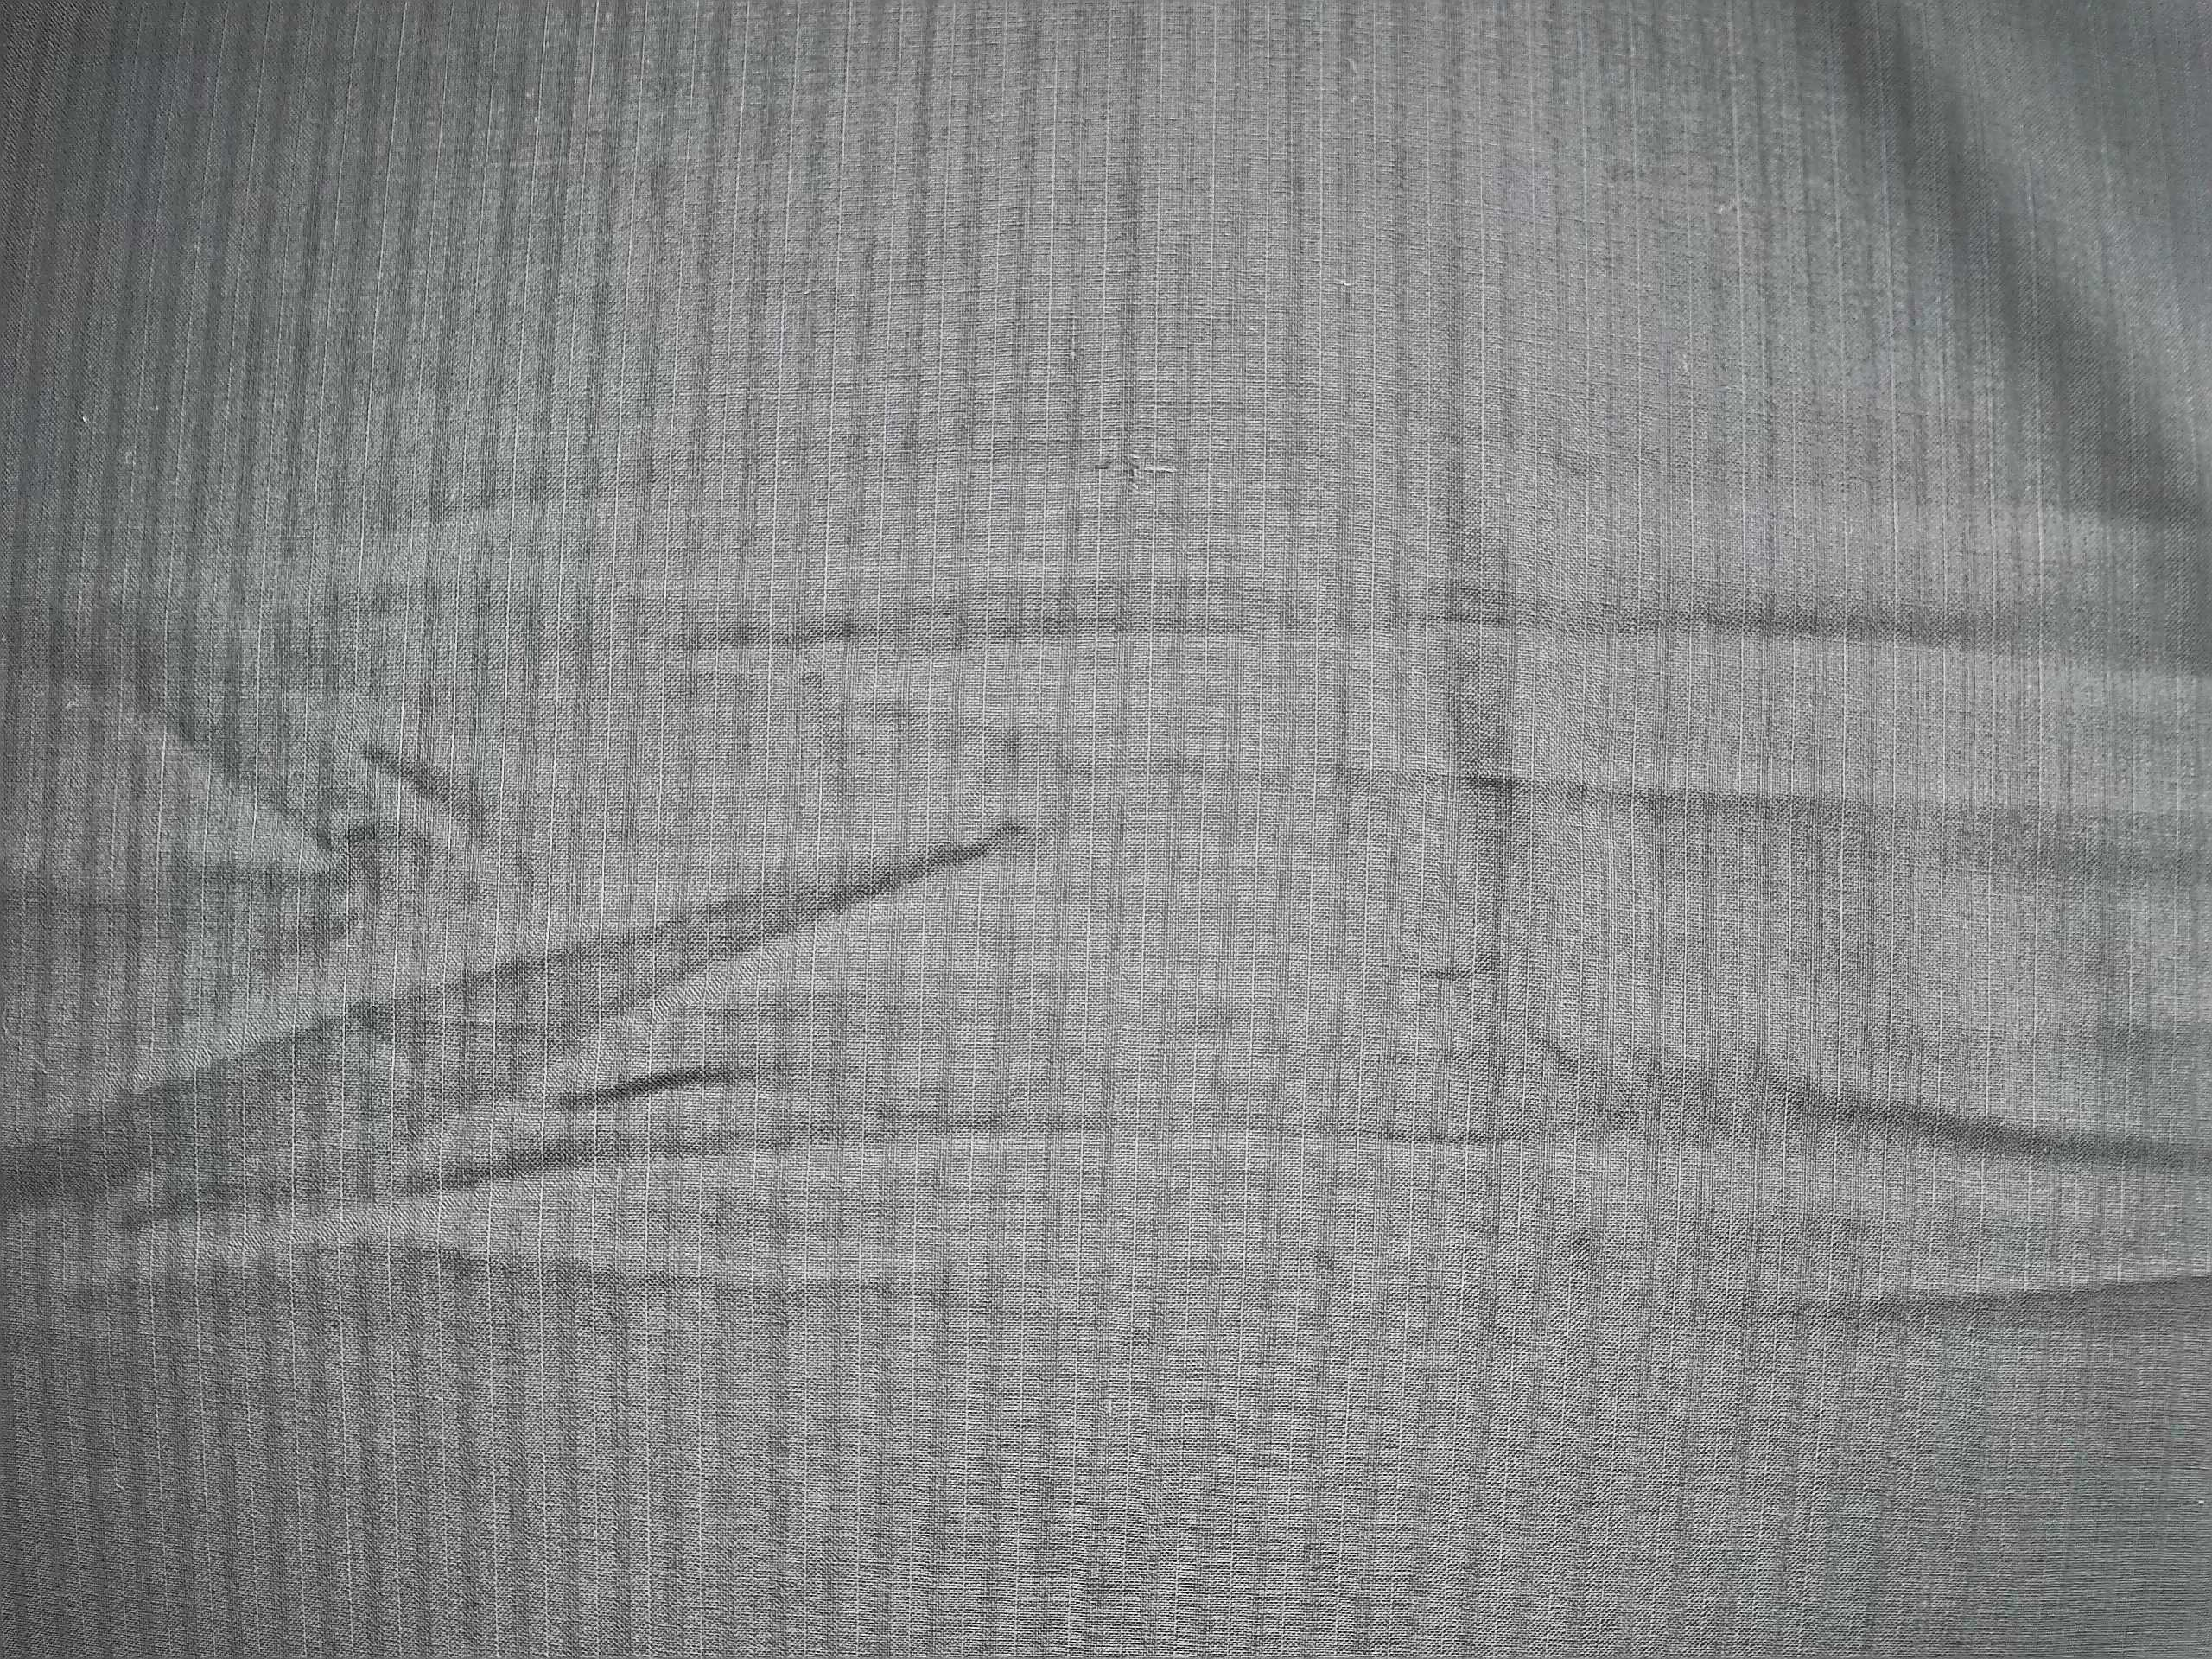rubbing-hole: (1090, 437, 1177, 502)
